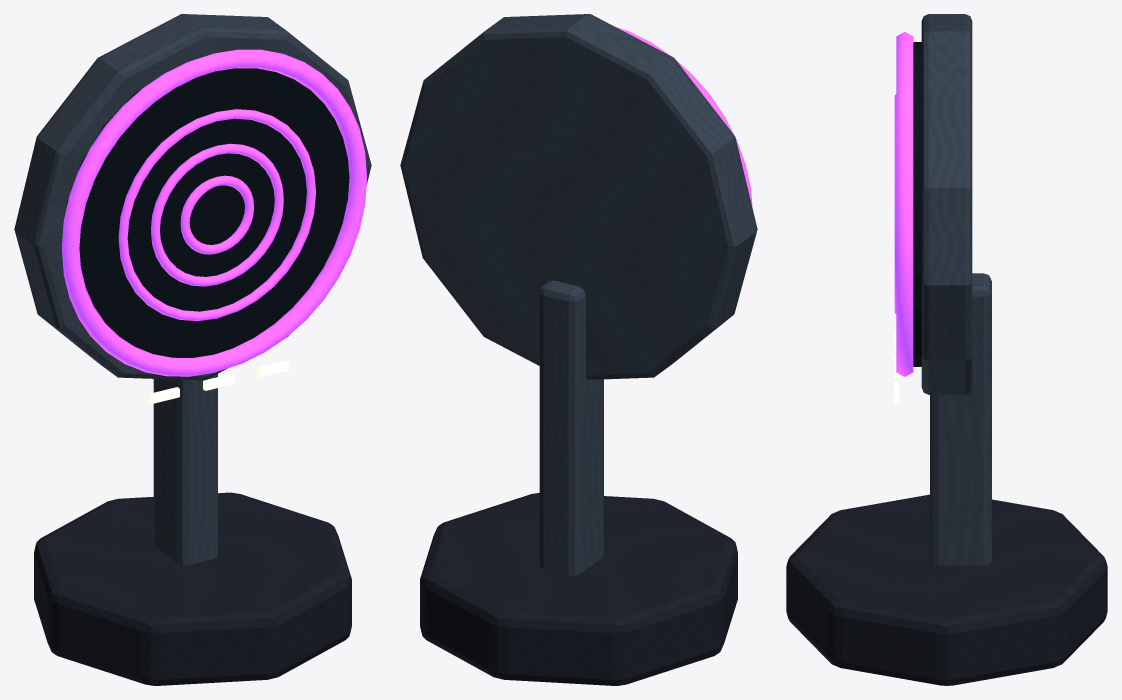
File: TrainingTarget_Wave.fbx
3 renders of one model, left to right at view 1: azimuth 30°, elevation 25°; view 2: azimuth 150°, elevation 25°; view 3: azimuth 270°, elevation 25°, orthographic.
Visible parts, largest first — view 1: SM_TrainingTarget_Wave; view 2: SM_TrainingTarget_Wave; view 3: SM_TrainingTarget_Wave.
Part boxes in pixels (left/top/right/bottom): SM_TrainingTarget_Wave: left=14, top=14, right=371, bottom=685; SM_TrainingTarget_Wave: left=400, top=14, right=757, bottom=685; SM_TrainingTarget_Wave: left=786, top=14, right=1107, bottom=685.
Bounding box in the file's own units: 136 × 114 × 232.
1 material, 1 textured.
